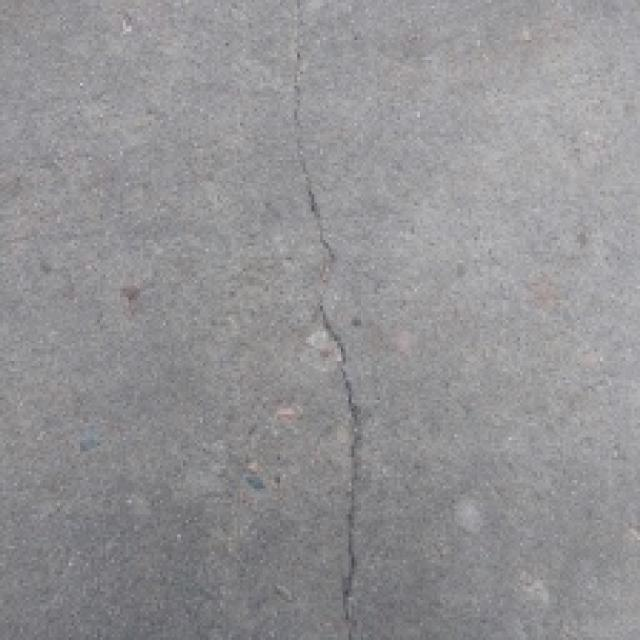SurfaceCrack: (258, 4, 382, 640)
